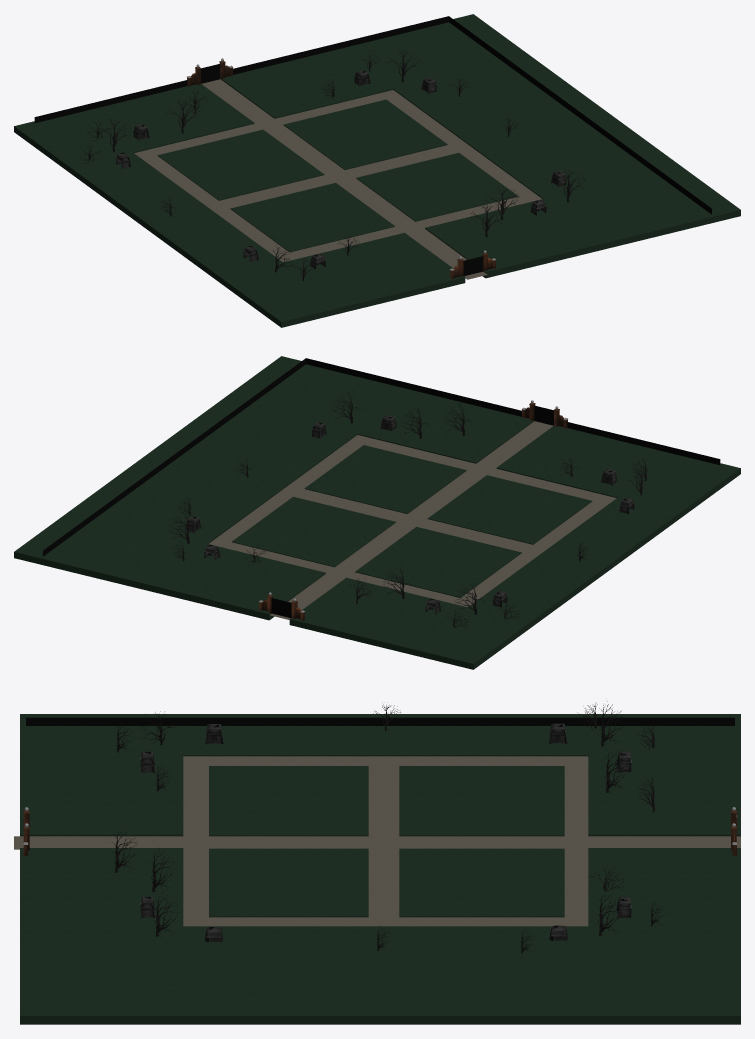
The model's file is cemeteryLevel.fbx.
3 views of the same model, one above another, from view 1: azimuth 30°, elevation 25°; view 2: azimuth 150°, elevation 25°; view 3: azimuth 270°, elevation 25° (orthographic). The views are drawn at different scales.
Visible parts, largest first — view 1: polySurface2299, polySurface2270, polySurface2308; view 2: polySurface2299, polySurface2270, polySurface2308; view 3: polySurface2299, polySurface2270, polySurface2308.
Part boxes in pixels (x1,y1,x2,y2): polySurface2299: [14, 14, 740, 327]; polySurface2270: [134, 79, 541, 279]; polySurface2308: [34, 16, 711, 214]; polySurface2299: [14, 356, 740, 669]; polySurface2270: [209, 421, 616, 619]; polySurface2308: [43, 358, 720, 556]; polySurface2299: [20, 714, 740, 1024]; polySurface2270: [14, 756, 740, 926]; polySurface2308: [26, 717, 734, 725].
Bounding box in the file's own units: 22.69 × 3.48 × 23.07.
